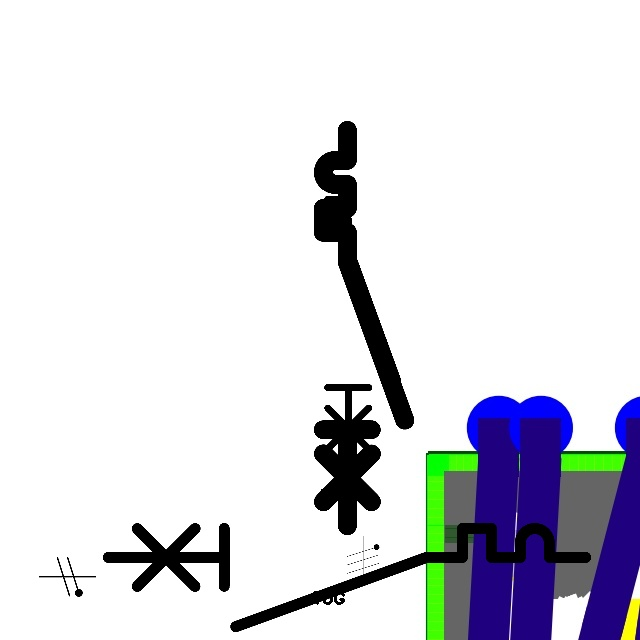interruptor_termomagnetico: (95, 516, 597, 639), (313, 120, 415, 536), (319, 124, 405, 478)
